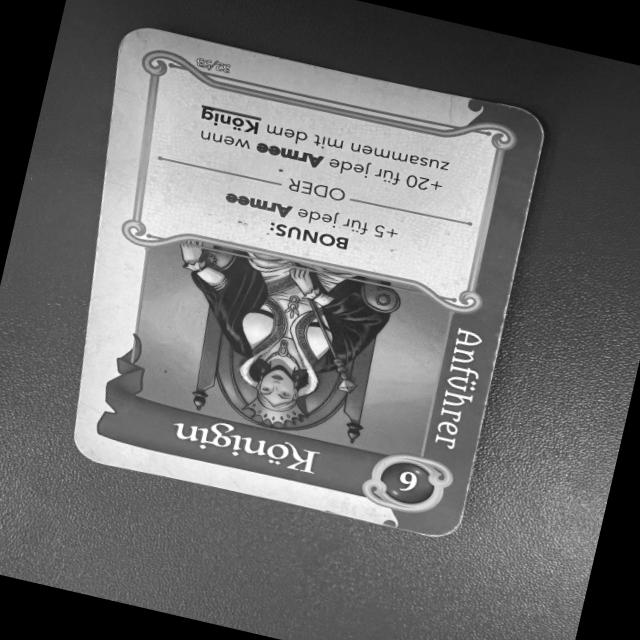Queen: (67, 15, 544, 540)
